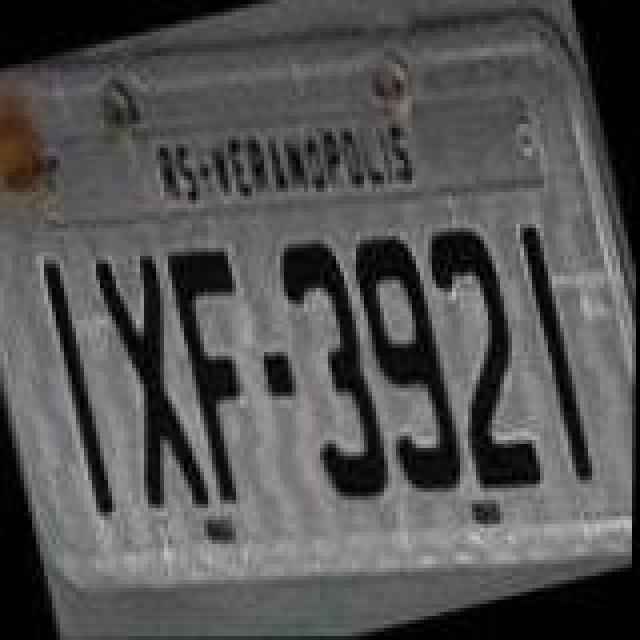1: (32, 254, 128, 530), (508, 220, 604, 492)
2: (412, 216, 556, 516)
3: (268, 228, 404, 512)
9: (342, 224, 482, 508)
F: (162, 238, 294, 510)
X: (84, 244, 220, 524)
